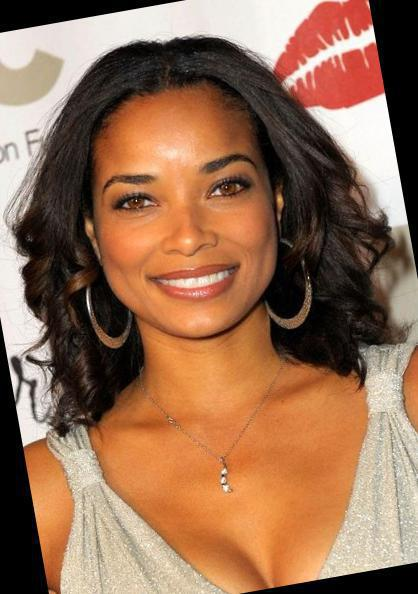Sober: (107, 109, 272, 331)
